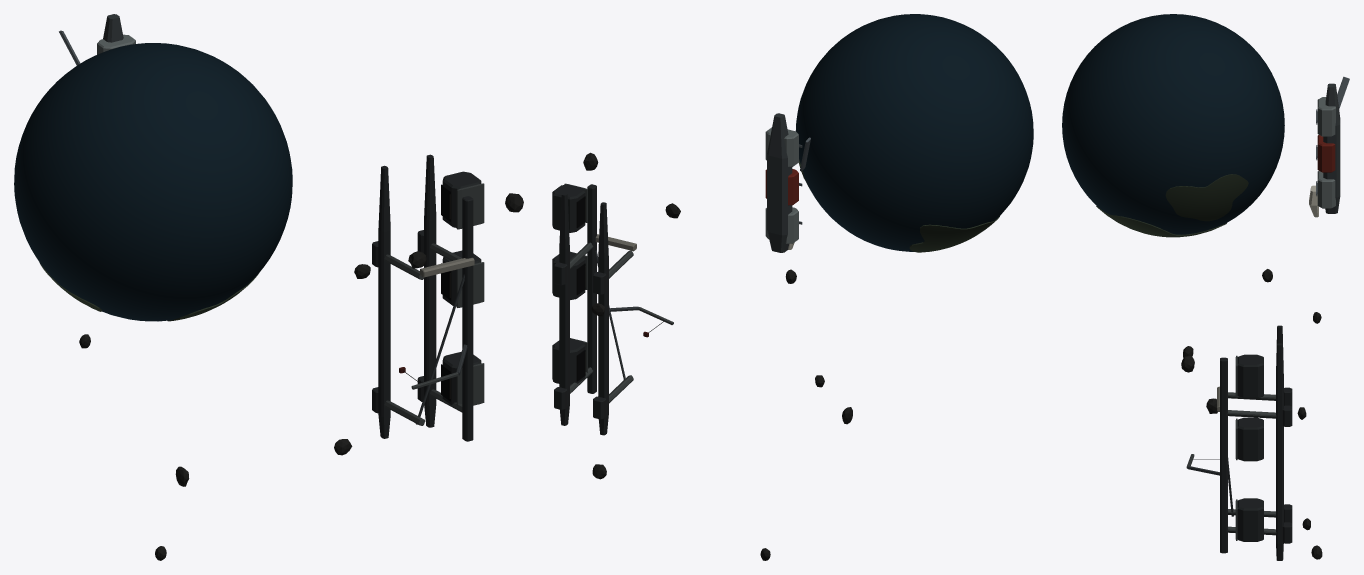
Rendered from escenario_orbital.obj.
3 views of the same model, side by side, from view 1: azimuth 30°, elevation 25°; view 2: azimuth 150°, elevation 25°; view 3: azimuth 270°, elevation 25° (orthographic). The views are drawn at different scales.
Parts seen in each view (by area): view 1: escenario_orbital_Planeta, escenario_orbital_Viga_dique_0, escenario_orbital_Viga_dique_1, escenario_orbital_Espina_servicio, escenario_orbital_Blindaje_taller_2, escenario_orbital_Modulo_taller_2, escenario_orbital_Blindaje_taller_0, escenario_orbital_Blindaje_taller_1; view 2: escenario_orbital_Planeta, escenario_orbital_Carguero_quilla, escenario_orbital_Viga_dique_1, escenario_orbital_Viga_dique_0, escenario_orbital_Espina_servicio, escenario_orbital_Continente_1, escenario_orbital_Modulo_taller_2, escenario_orbital_Modulo_taller_0; view 3: escenario_orbital_Planeta, escenario_orbital_Continente_2, escenario_orbital_Viga_dique_1, escenario_orbital_Espina_servicio, escenario_orbital_Modulo_taller_2, escenario_orbital_Modulo_taller_1, escenario_orbital_Modulo_taller_0, escenario_orbital_Carguero_quilla, escenario_orbital_Continente_0, escenario_orbital_Contenedor_carguero_2, escenario_orbital_Contenedor_carguero_0, escenario_orbital_Contenedor_carguero_1.
Boxes of the visible parts, left/top/right/bottom form: escenario_orbital_Planeta: left=14, top=43, right=292, bottom=321; escenario_orbital_Viga_dique_0: left=378, top=165, right=390, bottom=438; escenario_orbital_Viga_dique_1: left=424, top=154, right=436, bottom=427; escenario_orbital_Espina_servicio: left=462, top=196, right=473, bottom=441; escenario_orbital_Blindaje_taller_2: left=456, top=183, right=484, bottom=229; escenario_orbital_Modulo_taller_2: left=442, top=171, right=481, bottom=227; escenario_orbital_Blindaje_taller_0: left=456, top=363, right=484, bottom=405; escenario_orbital_Blindaje_taller_1: left=456, top=262, right=484, bottom=307; escenario_orbital_Planeta: left=795, top=14, right=1033, bottom=251; escenario_orbital_Carguero_quilla: left=767, top=113, right=792, bottom=252; escenario_orbital_Viga_dique_1: left=559, top=192, right=569, bottom=425; escenario_orbital_Viga_dique_0: left=598, top=202, right=608, bottom=435; escenario_orbital_Espina_servicio: left=587, top=184, right=596, bottom=393; escenario_orbital_Continente_1: left=909, top=216, right=999, bottom=252; escenario_orbital_Modulo_taller_2: left=552, top=184, right=585, bottom=232; escenario_orbital_Modulo_taller_0: left=552, top=338, right=585, bottom=384; escenario_orbital_Planeta: left=1062, top=14, right=1284, bottom=234; escenario_orbital_Continente_2: left=1165, top=174, right=1248, bottom=221; escenario_orbital_Viga_dique_1: left=1276, top=343, right=1283, bottom=560; escenario_orbital_Espina_servicio: left=1220, top=357, right=1227, bottom=553; escenario_orbital_Modulo_taller_2: left=1237, top=354, right=1263, bottom=398; escenario_orbital_Modulo_taller_1: left=1237, top=417, right=1263, bottom=461; escenario_orbital_Modulo_taller_0: left=1237, top=498, right=1263, bottom=541; escenario_orbital_Carguero_quilla: left=1323, top=83, right=1340, bottom=213; escenario_orbital_Continente_0: left=1096, top=206, right=1226, bottom=237; escenario_orbital_Contenedor_carguero_2: left=1317, top=97, right=1335, bottom=136; escenario_orbital_Contenedor_carguero_0: left=1317, top=171, right=1335, bottom=208; escenario_orbital_Contenedor_carguero_1: left=1317, top=135, right=1335, bottom=172.
Size of the model in its own units: 92.89 by 105 by 58.15.
